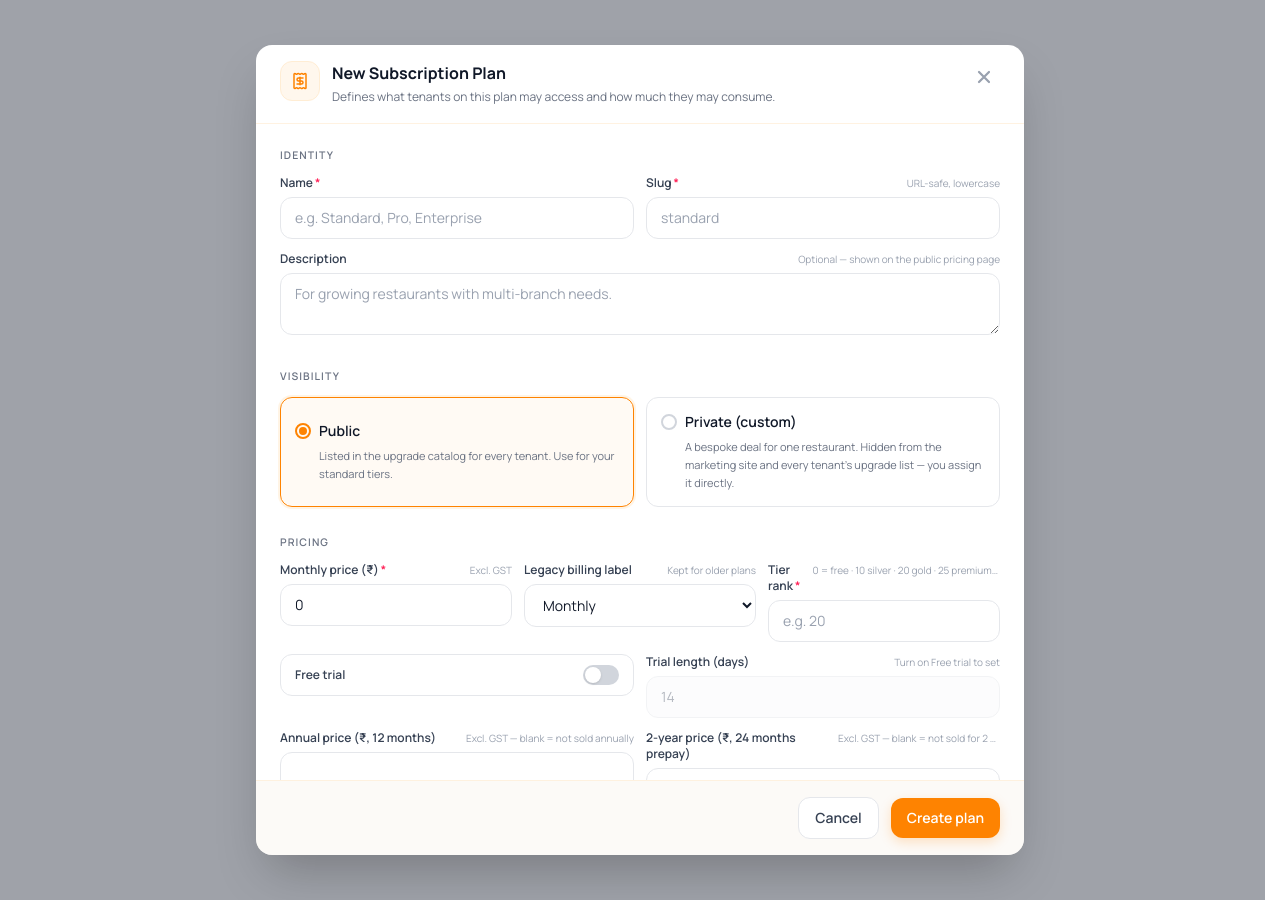
it: PlanFormModal tier / trial / card fields › trial enabled with an out-of-range length blocks the save
In the field labelled "Name*": (457, 218) [280,197,634,239], type "Starter"
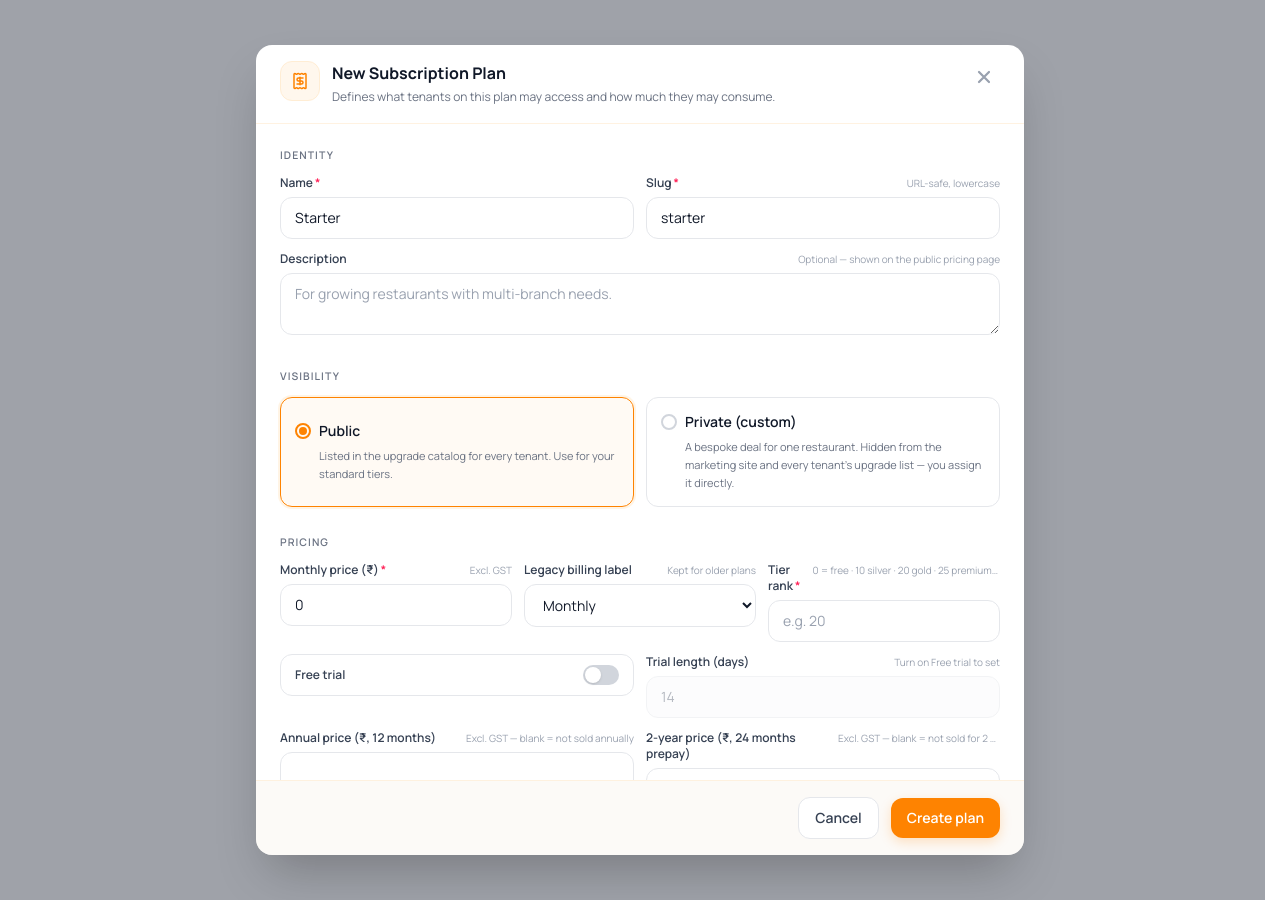
Replace the text in the number field labelled "Monthly price (₹)* Excl. GST" with "499": (396, 605) [280,584,512,626]
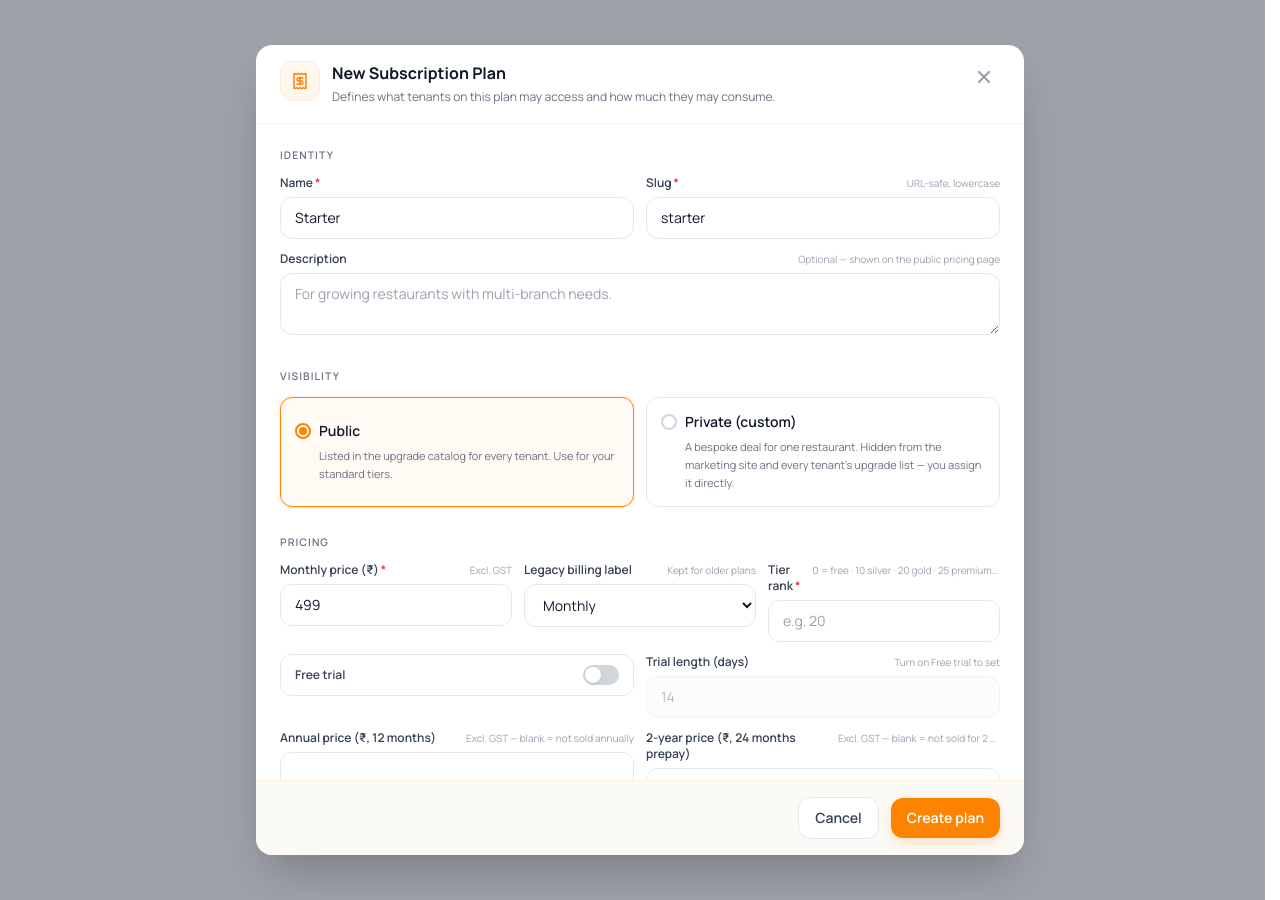
In the 2nd number field: (884, 621) [768,600,1000,642], type "10"
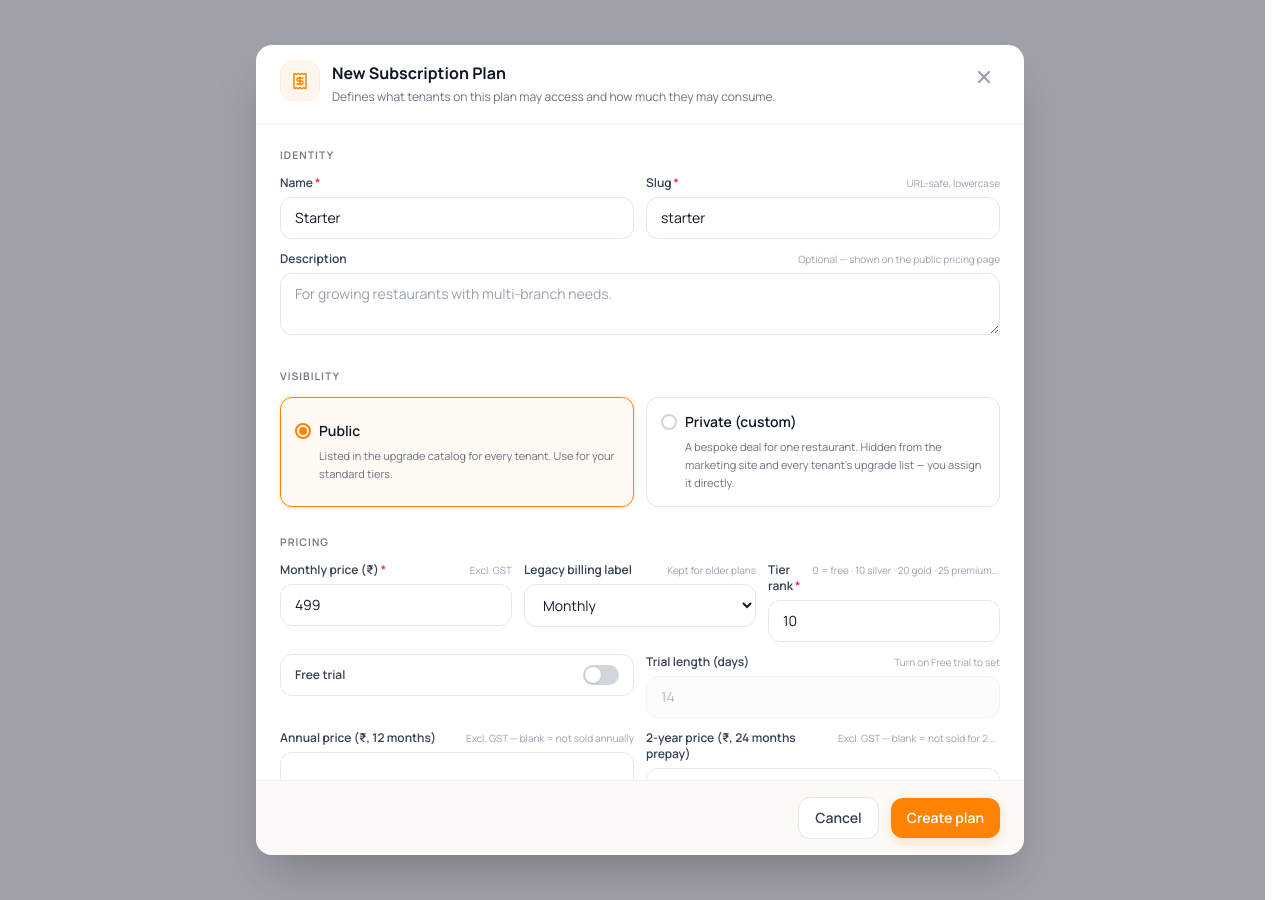
Click the button "Free trial": (320, 675) [280,654,634,696]
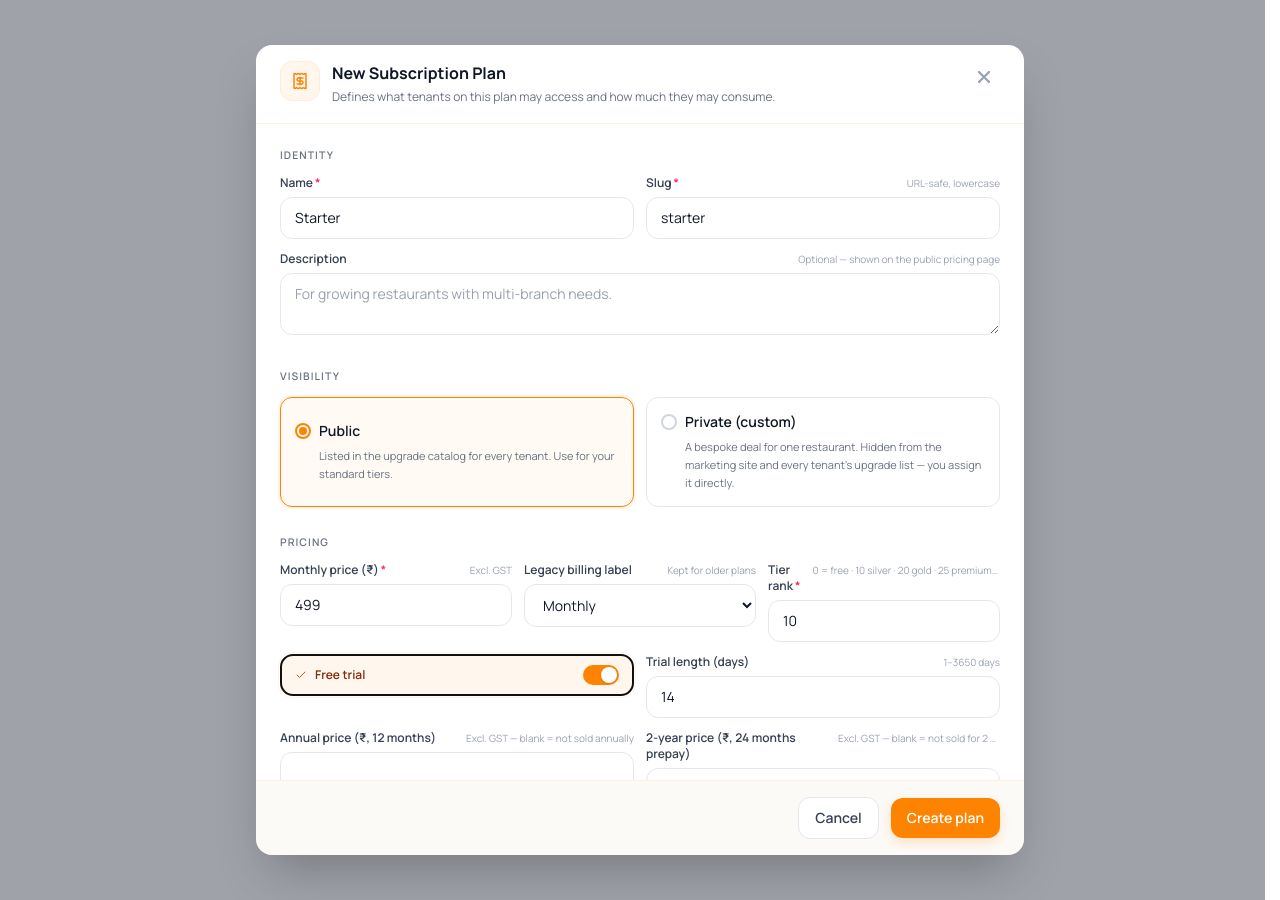
Replace the text in the number field labelled "Trial length (days) 1–3650 days" with "0": (823, 697) [646,676,1000,718]
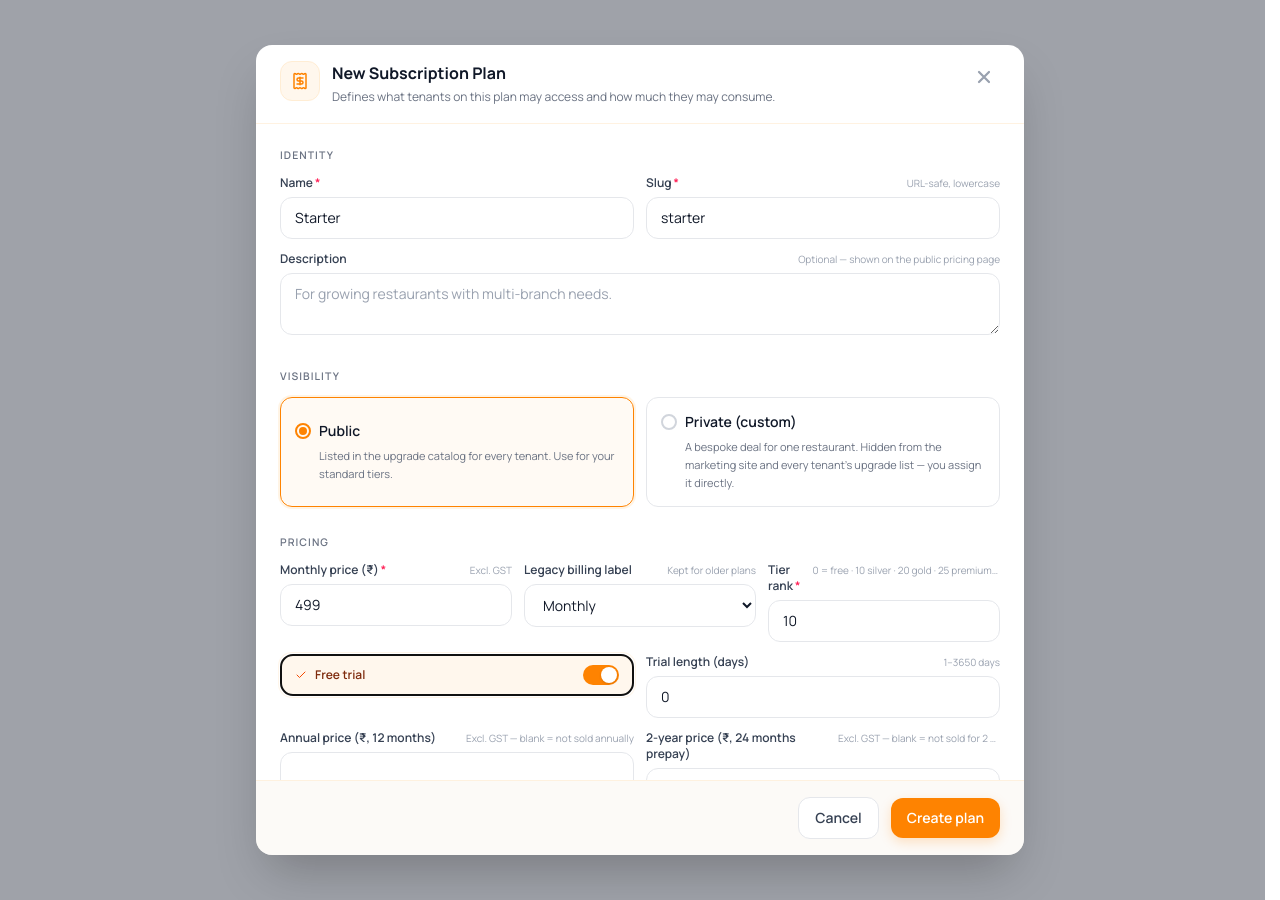
Click the button "Create plan": (945, 818) [891,798,1000,838]
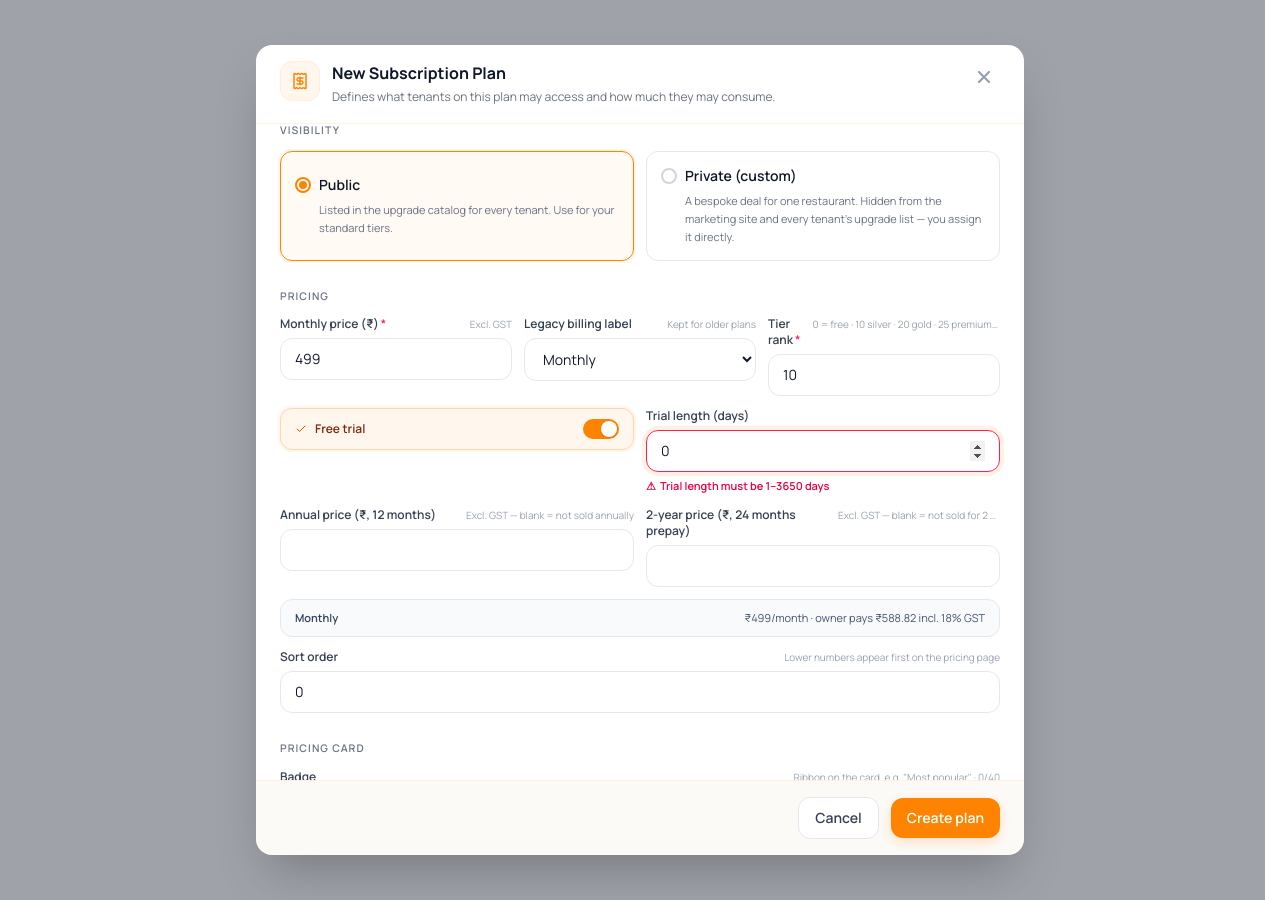
Check: the text "⚠ Trial length must be 1–3650 days" is shown, box [646,478,830,493]
